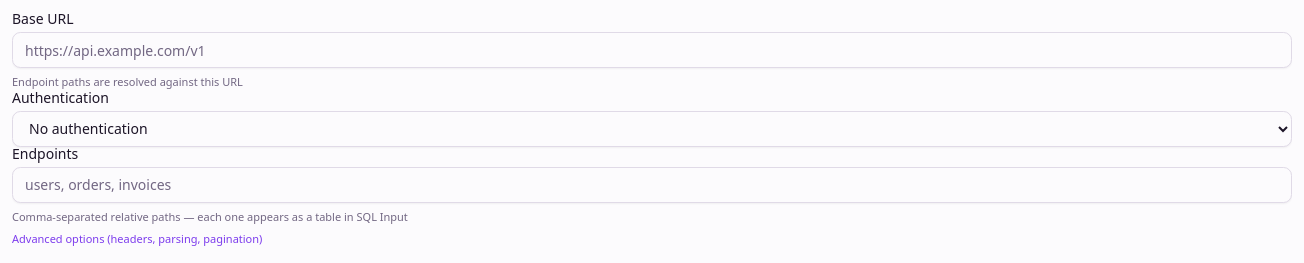
Test: ApiFields › splits, trims, and drops empty entries when parsing the endpoints list
Type " users ,, orders ,  " into the field with placeholder "users, orders, invoices" at point(652, 184), box [12,166,1292,202]
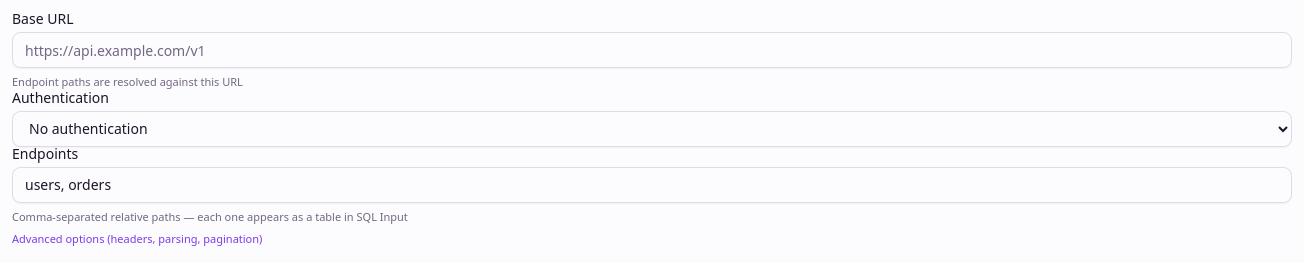
Check: the field with placeholder "users, orders, invoices" holds "users, orders", box [12,166,1292,202]
